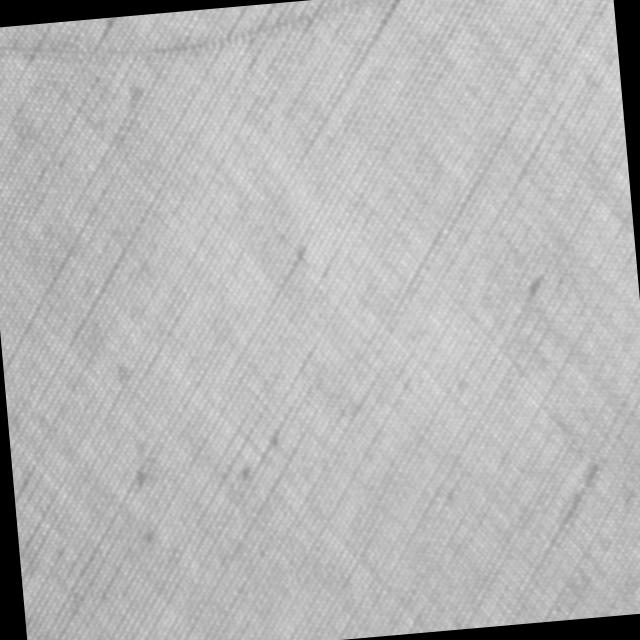objects: (0, 0, 399, 78)
